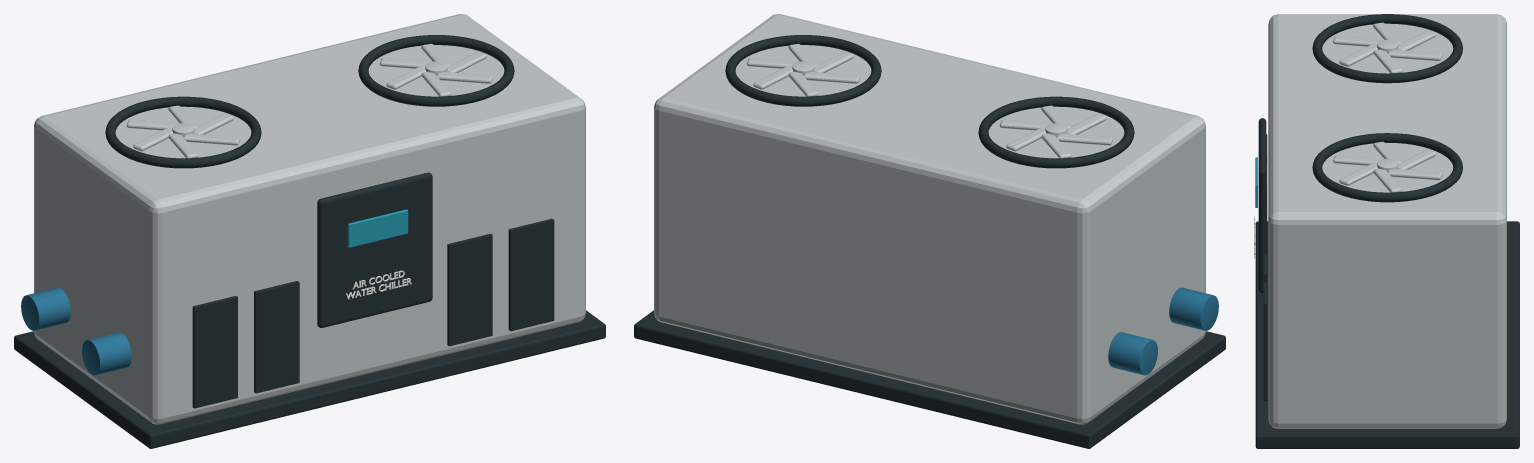
The model's file is air_cooled_water_chiller.glb.
3 renders of one model, left to right at view 1: azimuth 30°, elevation 25°; view 2: azimuth 150°, elevation 25°; view 3: azimuth 270°, elevation 25°, orthographic. The views are drawn at different scales.
Visible parts, largest first — view 1: CHILLER_BODY, BASE, CONTROL_PANEL, COIL_0.9, COIL_-0.55, COIL_0.55, COIL_-0.9, KIN_CONDENSER_FAN_-0.72_RING, KIN_CONDENSER_FAN_0.72_RING, CHW_RETURN, CHW_SUPPLY, DISPLAY (+1 smaller); view 2: CHILLER_BODY, BASE, KIN_CONDENSER_FAN_-0.72_RING, KIN_CONDENSER_FAN_0.72_RING, CHW_SUPPLY, CHW_RETURN; view 3: CHILLER_BODY, BASE, KIN_CONDENSER_FAN_0.72_RING, KIN_CONDENSER_FAN_-0.72_RING, CONTROL_PANEL, COIL_0.9, KIN_CONDENSER_FAN_-0.72_BLADE_1, KIN_CONDENSER_FAN_0.72_BLADE_1, KIN_CONDENSER_FAN_0.72_BLADE_5, KIN_CONDENSER_FAN_0.72_BLADE_4, KIN_CONDENSER_FAN_-0.72_BLADE_4, KIN_CONDENSER_FAN_-0.72_BLADE_5 (+6 smaller).
Part boxes in pixels (x1,y1,x2,y2): CHILLER_BODY: (34,14,585,424); BASE: (14,310,605,448); CONTROL_PANEL: (317,172,432,327); COIL_0.9: (508,218,554,331); COIL_-0.55: (254,281,299,393); COIL_0.55: (447,233,492,346); COIL_-0.9: (192,296,237,408); KIN_CONDENSER_FAN_-0.72_RING: (105,96,261,168); KIN_CONDENSER_FAN_0.72_RING: (358,35,514,106); CHW_RETURN: (82,332,131,375); CHW_SUPPLY: (21,287,70,330); DISPLAY: (347,209,408,247); CHILLER_BODY: (654,14,1205,424); BASE: (634,310,1225,448); KIN_CONDENSER_FAN_-0.72_RING: (978,96,1134,168); KIN_CONDENSER_FAN_0.72_RING: (725,35,881,106); CHW_SUPPLY: (1108,332,1157,375); CHW_RETURN: (1169,287,1218,330); CHILLER_BODY: (1268,14,1506,428); BASE: (1255,221,1519,448); KIN_CONDENSER_FAN_0.72_RING: (1312,133,1462,202); KIN_CONDENSER_FAN_-0.72_RING: (1312,14,1462,83); CONTROL_PANEL: (1258,118,1266,293); COIL_0.9: (1263,283,1267,400); KIN_CONDENSER_FAN_-0.72_BLADE_1: (1388,49,1442,60); KIN_CONDENSER_FAN_0.72_BLADE_1: (1388,169,1442,180); KIN_CONDENSER_FAN_0.72_BLADE_5: (1339,163,1377,185); KIN_CONDENSER_FAN_0.72_BLADE_4: (1333,155,1385,165); KIN_CONDENSER_FAN_-0.72_BLADE_4: (1333,36,1385,46); KIN_CONDENSER_FAN_-0.72_BLADE_5: (1339,43,1377,66).
Size of the model in its own units: 2.72 by 1.35 by 1.36.
